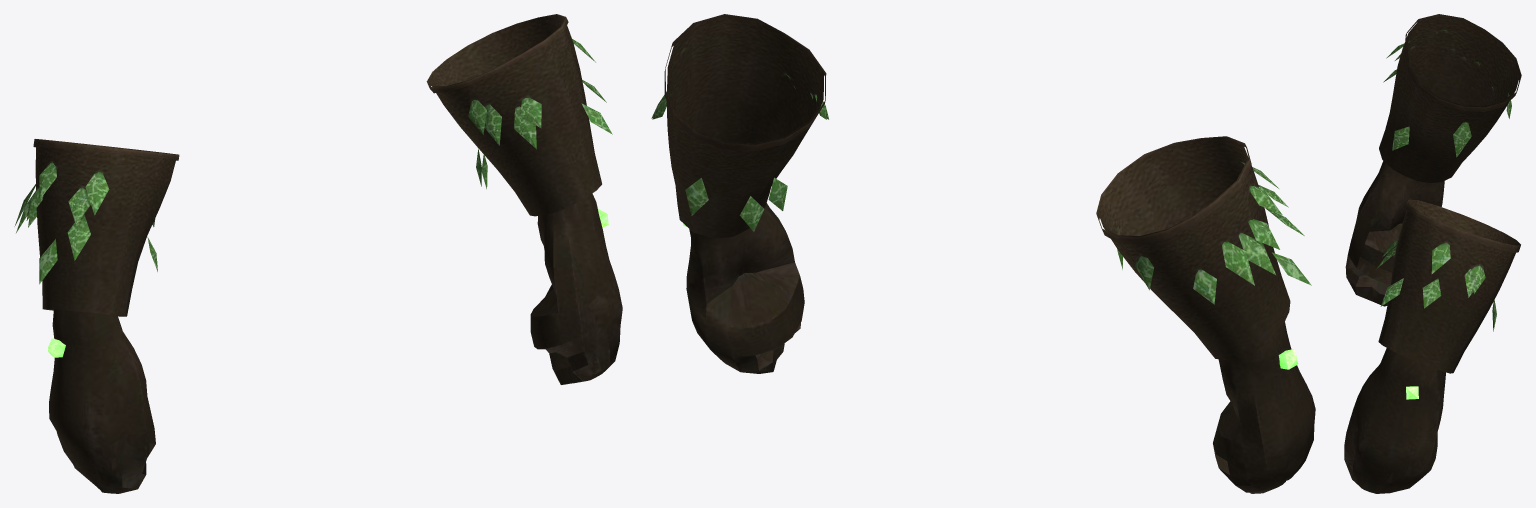
Rendered from Luvas_de_Couro_nivel100.glb.
3 views of the same model, side by side, from view 1: azimuth 30°, elevation 25°; view 2: azimuth 150°, elevation 25°; view 3: azimuth 270°, elevation 25° (orthographic). The views are drawn at different scales.
Parts seen in each view (by area): view 1: luvas_de_couro_nivel100; view 2: luvas_de_couro_nivel100; view 3: luvas_de_couro_nivel100.
Part boxes in pixels (box(x1,y1,x2,y2)): luvas_de_couro_nivel100: box(14, 14, 622, 493); luvas_de_couro_nivel100: box(651, 14, 1315, 493); luvas_de_couro_nivel100: box(1344, 14, 1521, 493).
Bounding box in the file's own units: 0.6932 × 0.3873 × 0.2184.
1 material, 1 textured.
